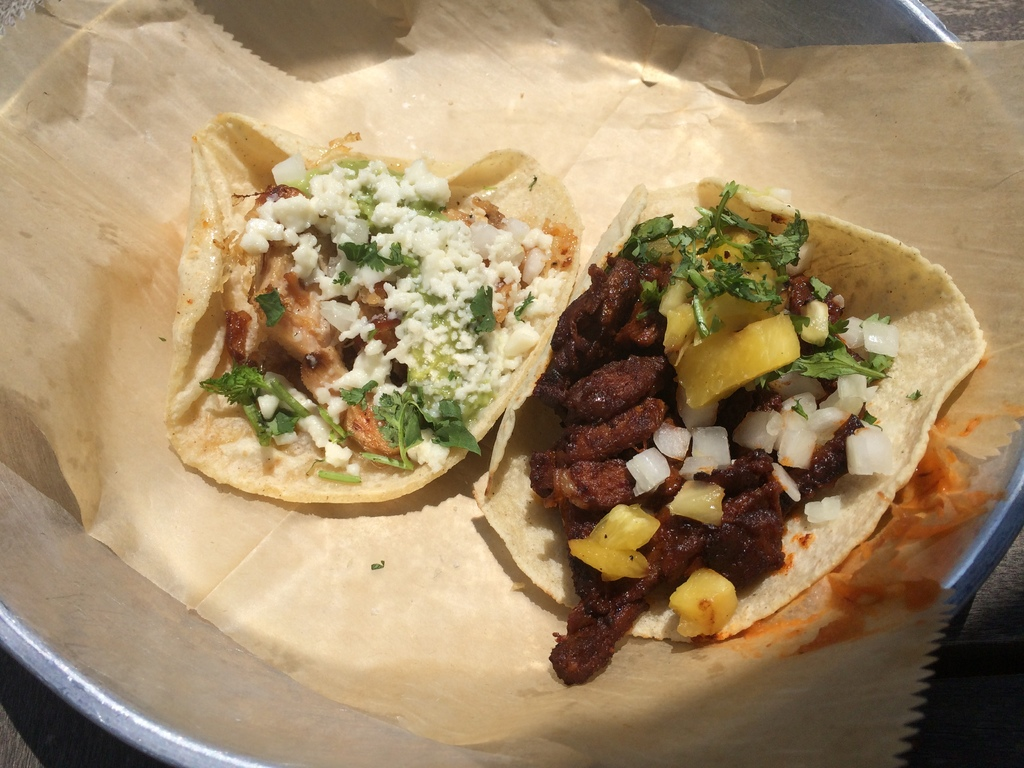taco: (479, 182, 985, 685), (163, 115, 580, 509)
